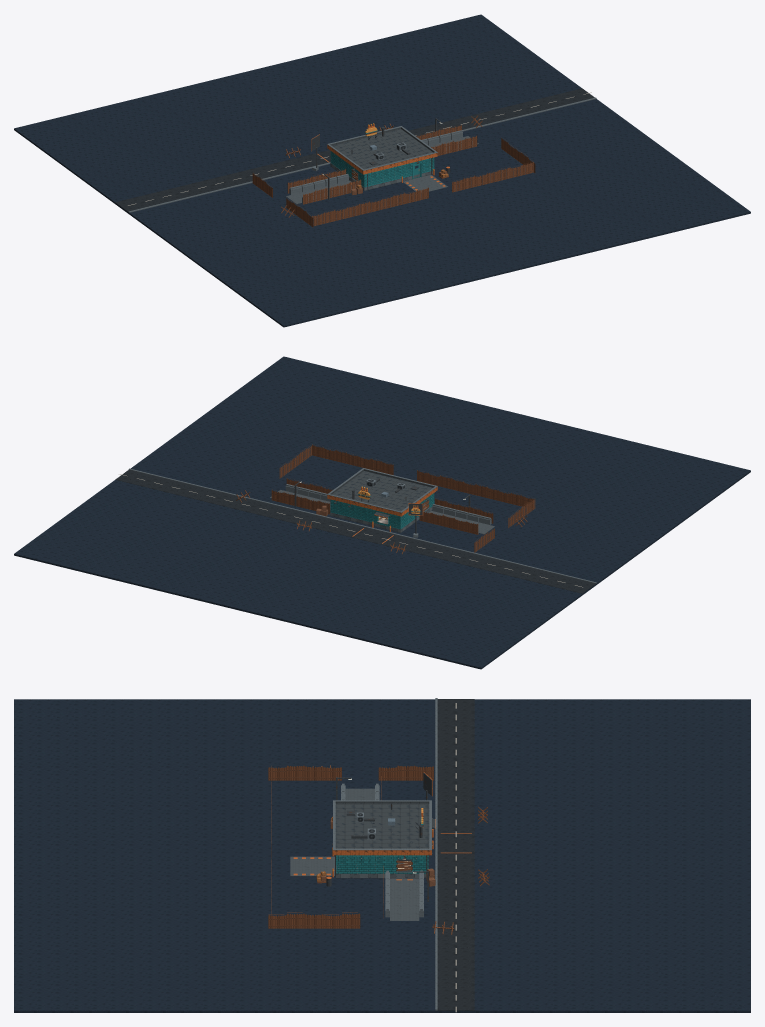
File: shop_greybox.glb
3 views of the same model, one above another, from view 1: azimuth 30°, elevation 25°; view 2: azimuth 150°, elevation 25°; view 3: azimuth 270°, elevation 25° (orthographic). The views are drawn at different scales.
Visible parts, largest first — view 1: Ground, Road, Decor_Fences, Roof, Decor_Shell, Walls_Exterior, Lane_B, Decor_Exterior; view 2: Ground, Road, Decor_Fences, Roof, Decor_Shell, Walls_Exterior, Lane_B, Decor_Exterior, Lane_A; view 3: Ground, Road, Roof, Decor_Fences, Decor_Shell, Lane_A, Walls_Exterior, Decor_Exterior, Lane_B, Decor_Roof.
Part boxes in pixels (x1,y1,x2,y2): Ground: [14, 14, 750, 327]; Road: [115, 88, 596, 212]; Decor_Fences: [252, 125, 535, 227]; Roof: [332, 129, 432, 169]; Decor_Shell: [327, 126, 437, 190]; Walls_Exterior: [330, 151, 434, 187]; Lane_B: [286, 173, 358, 203]; Decor_Exterior: [281, 115, 482, 217]; Ground: [14, 356, 750, 669]; Road: [115, 468, 596, 593]; Decor_Fences: [271, 444, 535, 552]; Roof: [332, 471, 432, 511]; Decor_Shell: [327, 468, 437, 532]; Walls_Exterior: [330, 493, 434, 529]; Lane_B: [428, 494, 494, 534]; Decor_Exterior: [236, 490, 527, 554]; Lane_A: [270, 481, 330, 513]; Ground: [14, 699, 750, 1012]; Road: [290, 698, 474, 1012]; Roof: [335, 803, 429, 848]; Decor_Fences: [268, 765, 433, 928]; Decor_Shell: [333, 800, 431, 878]; Lane_A: [385, 870, 428, 920]; Walls_Exterior: [336, 855, 428, 873]; Decor_Exterior: [313, 765, 489, 934]; Lane_B: [336, 777, 379, 800]; Decor_Roof: [346, 803, 423, 839].
Size of the model in its own units: 80.5 by 5.97 by 80.
Materials: 85 (60 with a texture image).
